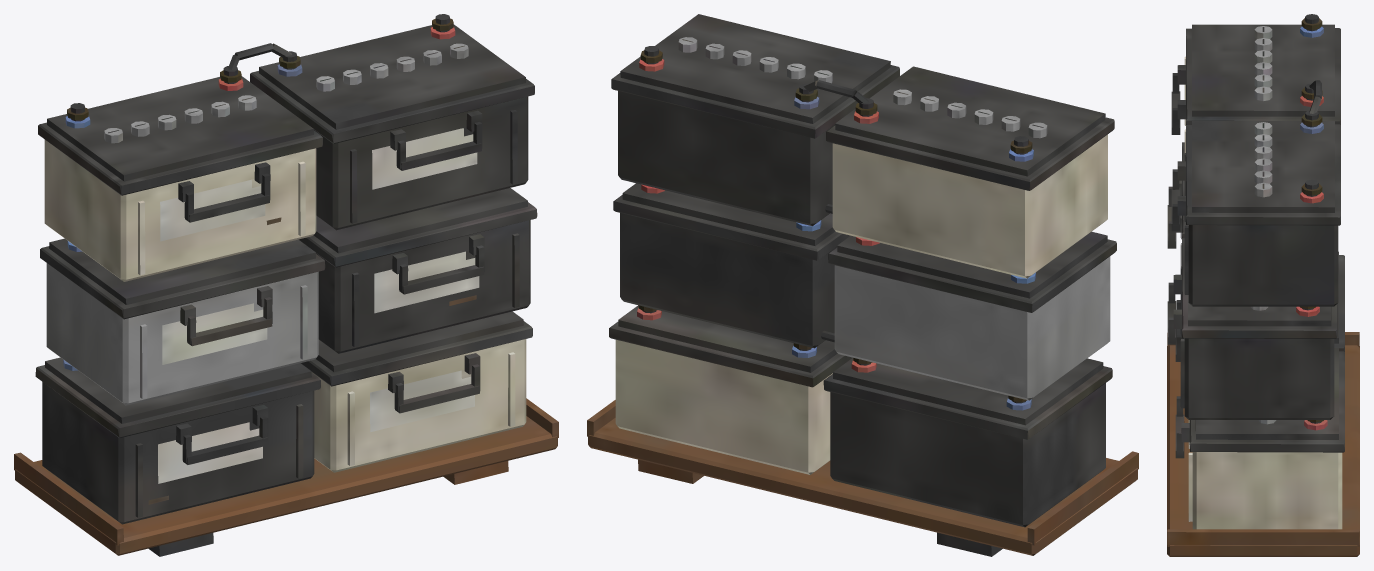
The model's file is U16_battery_bank.glb.
The picture shows the model from 3 angles, left to right: view 1: azimuth 30°, elevation 25°; view 2: azimuth 150°, elevation 25°; view 3: azimuth 270°, elevation 25°; orthographic projection. The views are drawn at different scales.
Visible parts, largest first — view 1: Rusty bottom tray; view 2: Rusty bottom tray; view 3: Rusty bottom tray.
Boxes of the visible parts, left/top/right/bottom form: Rusty bottom tray: left=14, top=14, right=558, bottom=556; Rusty bottom tray: left=587, top=14, right=1138, bottom=556; Rusty bottom tray: left=1167, top=14, right=1359, bottom=556.
Size of the model in its own units: 1 by 0.8872 by 0.4063.
10 materials, 10 textured.
